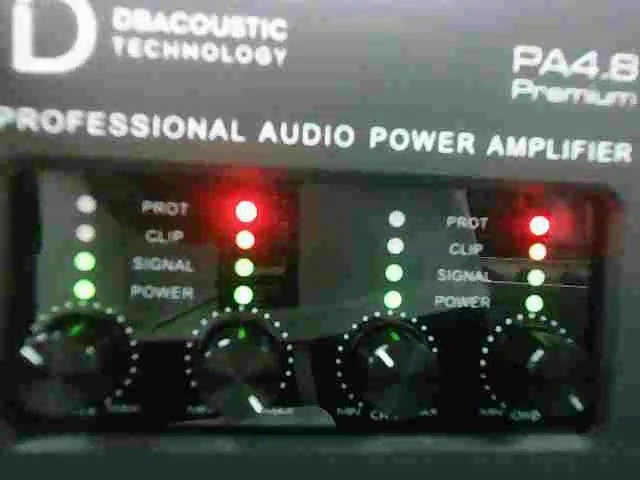A_CLIP_H: (142, 224, 255, 251), (447, 236, 550, 260)
A_CLIP_L: (73, 223, 186, 250), (384, 236, 486, 262)
A_PROT_H: (141, 196, 259, 220), (446, 209, 552, 234)
A_PROT_L: (73, 193, 193, 220), (384, 207, 494, 234)
A_PWR_H: (70, 278, 198, 307), (430, 287, 549, 318), (126, 281, 256, 308), (382, 288, 494, 318)
A_area: (70, 188, 262, 310), (378, 202, 555, 318)
